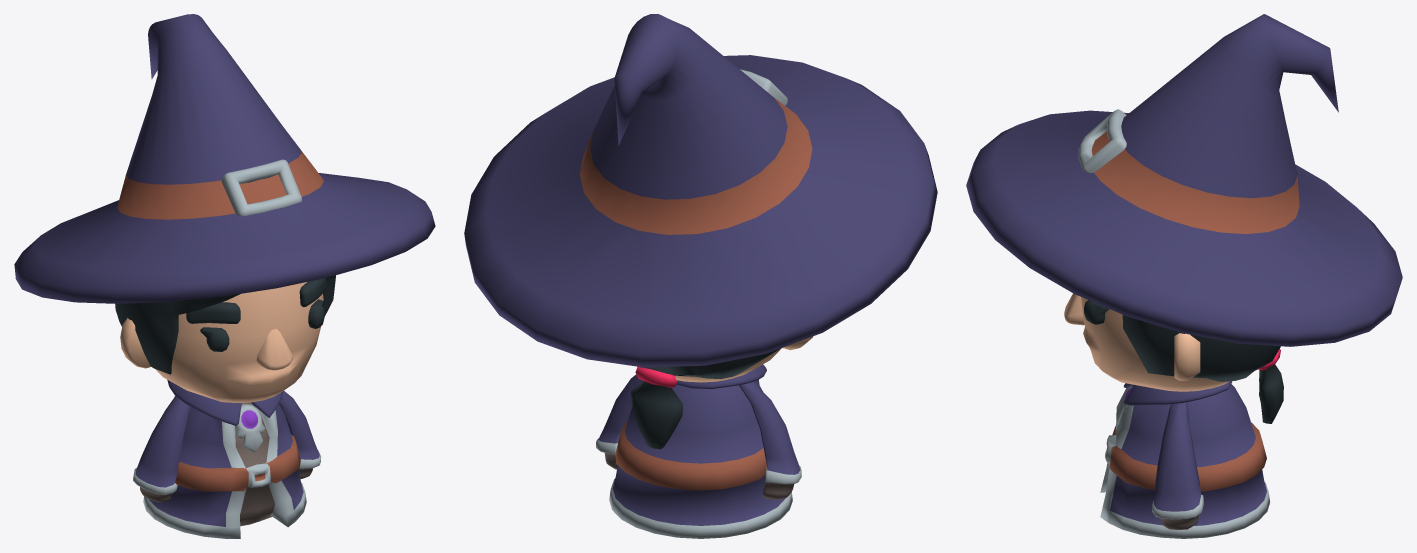
Rendered from MageForAnimation.gltf.
3 views of the same model, side by side, from view 1: azimuth 30°, elevation 25°; view 2: azimuth 150°, elevation 25°; view 3: azimuth 270°, elevation 25° (orthographic). The views are drawn at different scales.
Visible parts, largest first — view 1: Cube021, Cube016, Cube008, Cube021_1, Cube008_2, Cube017, Cube011, Cube008_3, Cube021_2, Cube008_4, Cube016_2, Cube3976 (+1 smaller); view 2: Cube021, Cube008, Cube021_1, Cube008_3, Cube017, Cube008_2, Cube011, Cube3976, Cube016, Cube017_1; view 3: Cube021, Cube008, Cube021_1, Cube017, Cube016, Cube3976, Cube008_2, Cube008_3, Cube021_2.
Boxes of the visible parts, <box> form: Cube021: <box>14,14,435,303</box>; Cube016: <box>120,282,323,402</box>; Cube008: <box>149,380,303,526</box>; Cube021_1: <box>117,149,323,219</box>; Cube008_2: <box>143,404,306,538</box>; Cube017: <box>115,275,335,374</box>; Cube011: <box>135,396,190,487</box>; Cube008_3: <box>175,434,300,491</box>; Cube021_2: <box>221,159,301,216</box>; Cube008_4: <box>235,402,274,526</box>; Cube016_2: <box>186,278,326,323</box>; Cube3976: <box>279,391,319,459</box>; Cube021: <box>464,14,937,367</box>; Cube008: <box>612,364,785,525</box>; Cube021_1: <box>580,98,812,234</box>; Cube008_3: <box>615,421,766,490</box>; Cube017: <box>631,348,780,449</box>; Cube008_2: <box>609,478,792,538</box>; Cube011: <box>739,382,800,474</box>; Cube3976: <box>598,374,643,443</box>; Cube016: <box>675,336,812,382</box>; Cube017_1: <box>635,366,677,387</box>; Cube021: <box>966,14,1402,346</box>; Cube008: <box>1110,381,1266,525</box>; Cube021_1: <box>1091,131,1299,233</box>; Cube017: <box>1122,315,1283,423</box>; Cube016: <box>1064,293,1229,391</box>; Cube3976: <box>1153,402,1200,511</box>; Cube008_2: <box>1100,386,1270,538</box>; Cube008_3: <box>1109,422,1266,491</box>; Cube021_2: <box>1078,109,1126,172</box>.
Bounding box in the file's own units: 2.1 × 2.54 × 2.05.
